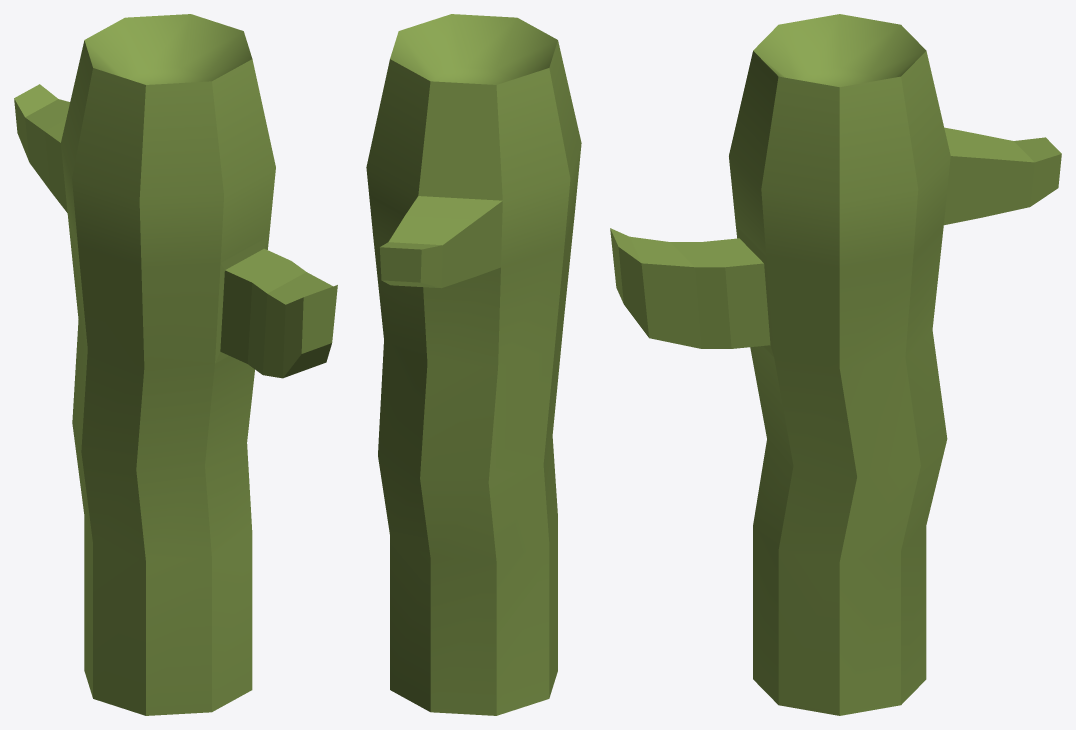
Rendered from Kacktus1.fbx.
The picture shows the model from 3 angles, left to right: view 1: azimuth 30°, elevation 25°; view 2: azimuth 150°, elevation 25°; view 3: azimuth 270°, elevation 25°; orthographic projection.
Parts seen in each view (by area): view 1: pCylinder1; view 2: pCylinder1; view 3: pCylinder1.
Boxes of the visible parts, x1,y1,x2,y2 form: pCylinder1: (14, 14, 337, 715); pCylinder1: (366, 14, 581, 715); pCylinder1: (610, 14, 1061, 715).
Bounding box in the file's own units: 2.56 × 8 × 5.21.
